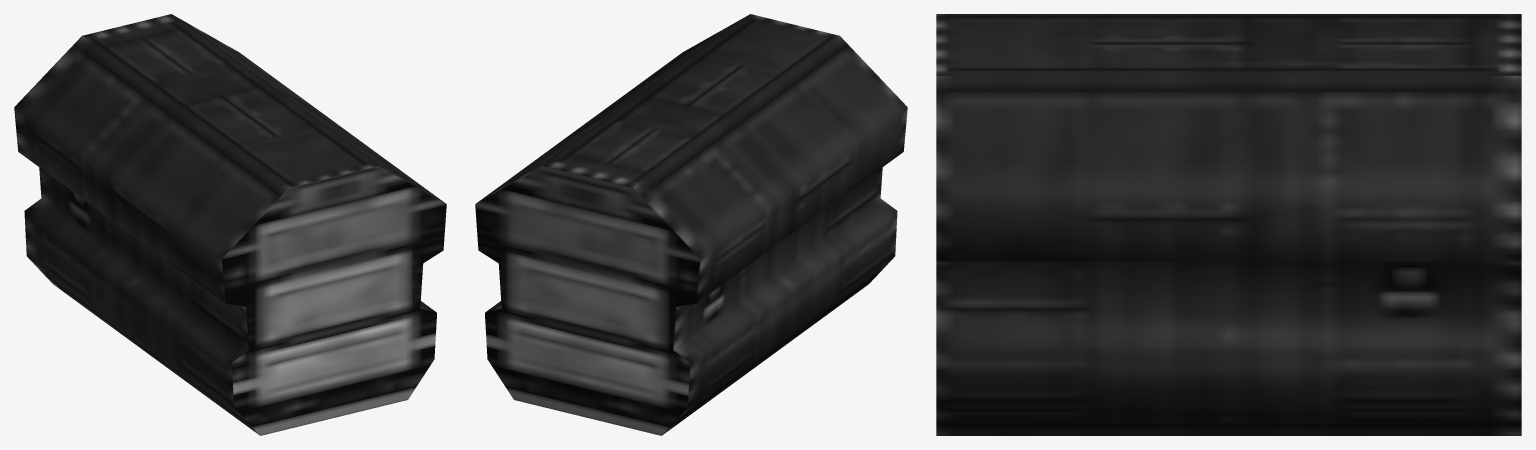
Rendered from utl15a2.obj.
3 renders of one model, left to right at view 1: azimuth 30°, elevation 25°; view 2: azimuth 150°, elevation 25°; view 3: azimuth 270°, elevation 25°, orthographic. The views are drawn at different scales.
Parts seen in each view (by area): view 1: frm-utl15a; view 2: frm-utl15a; view 3: frm-utl15a.
Part boxes in pixels (x1,y1,x2,y2): frm-utl15a: (14, 14, 446, 435); frm-utl15a: (475, 14, 907, 435); frm-utl15a: (936, 14, 1521, 435).
Bounding box in the file's own units: 7.05 × 7.22 × 11.25.
Materials: 1 (1 with a texture image).
